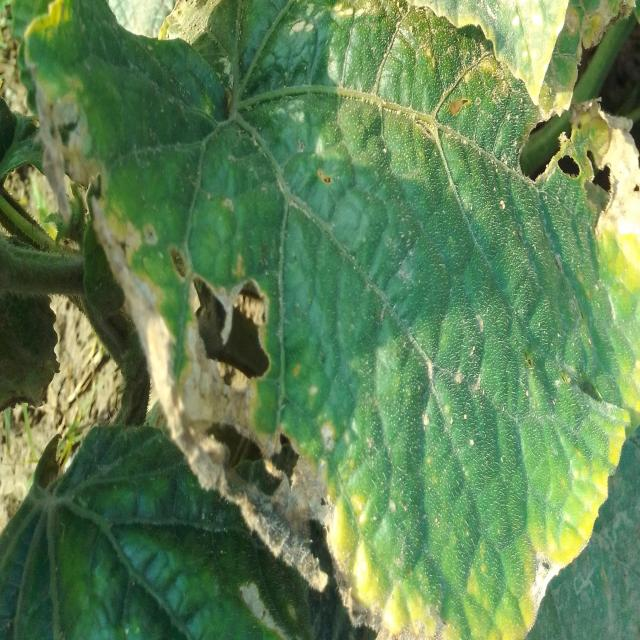cucumber_anthracnose: (29, 18, 635, 618)
